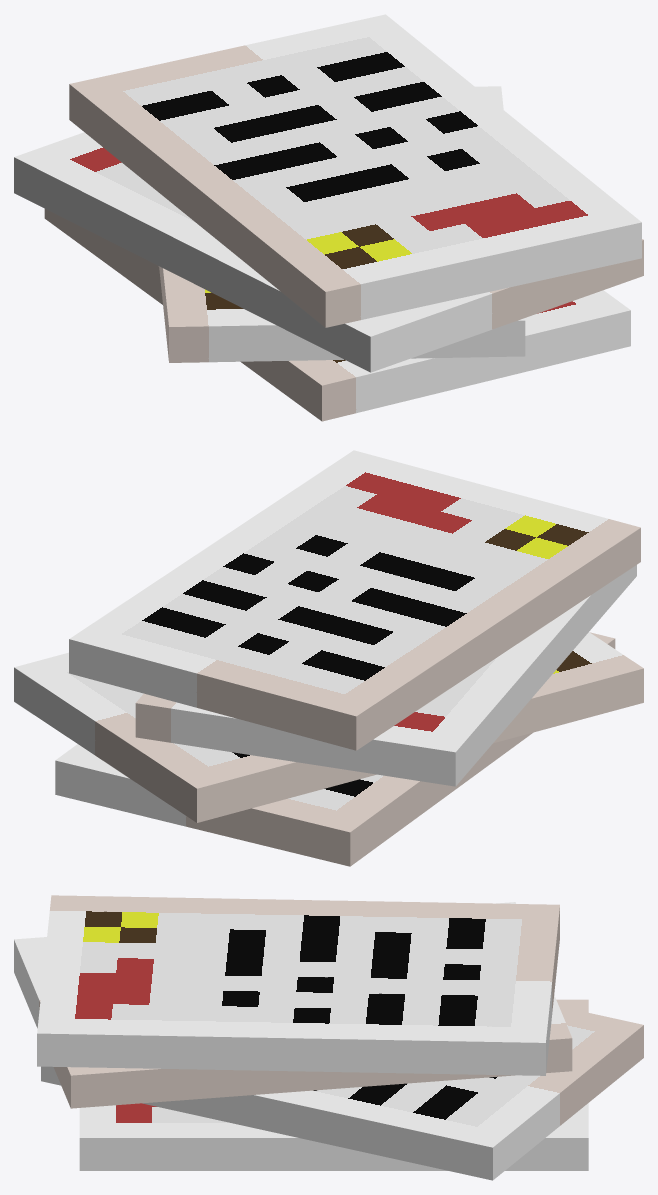
Rendered from newspaper_pile.glb.
3 views of the same model, one above another, from view 1: azimuth 30°, elevation 25°; view 2: azimuth 150°, elevation 25°; view 3: azimuth 270°, elevation 25° (orthographic). The views are drawn at different scales.
Visible parts, largest first — view 1: 9009c7a2-4b4e-7ee2-eb50-d2b9b4bf560f_3, 7e1b5b2b-36ba-e199-bd0b-7e450aeb2d7b_0, 14ee5732-4cb9-4ec8-4c96-71eefc87950d_2, 1358dd2b-743c-4670-5a4c-f29df595660e_1; view 2: 9009c7a2-4b4e-7ee2-eb50-d2b9b4bf560f_3, 1358dd2b-743c-4670-5a4c-f29df595660e_1, 7e1b5b2b-36ba-e199-bd0b-7e450aeb2d7b_0, 14ee5732-4cb9-4ec8-4c96-71eefc87950d_2; view 3: 9009c7a2-4b4e-7ee2-eb50-d2b9b4bf560f_3, 1358dd2b-743c-4670-5a4c-f29df595660e_1, 14ee5732-4cb9-4ec8-4c96-71eefc87950d_2, 7e1b5b2b-36ba-e199-bd0b-7e450aeb2d7b_0.
Part boxes in pixels (x1=…): 9009c7a2-4b4e-7ee2-eb50-d2b9b4bf560f_3: x1=69, y1=14, x2=641, y2=327; 7e1b5b2b-36ba-e199-bd0b-7e450aeb2d7b_0: x1=14, y1=132, x2=643, y2=372; 14ee5732-4cb9-4ec8-4c96-71eefc87950d_2: x1=44, y1=209, x2=630, y2=421; 1358dd2b-743c-4670-5a4c-f29df595660e_1: x1=159, y1=86, x2=525, y2=362; 9009c7a2-4b4e-7ee2-eb50-d2b9b4bf560f_3: x1=69, y1=450, x2=640, y2=750; 1358dd2b-743c-4670-5a4c-f29df595660e_1: x1=14, y1=632, x2=643, y2=822; 7e1b5b2b-36ba-e199-bd0b-7e450aeb2d7b_0: x1=135, y1=565, x2=636, y2=786; 14ee5732-4cb9-4ec8-4c96-71eefc87950d_2: x1=55, y1=632, x2=615, y2=866; 9009c7a2-4b4e-7ee2-eb50-d2b9b4bf560f_3: x1=37, y1=895, x2=559, y2=1075; 1358dd2b-743c-4670-5a4c-f29df595660e_1: x1=41, y1=1006, x2=643, y2=1180; 14ee5732-4cb9-4ec8-4c96-71eefc87950d_2: x1=79, y1=999, x2=588, y2=1170; 7e1b5b2b-36ba-e199-bd0b-7e450aeb2d7b_0: x1=14, y1=902, x2=572, y2=1108.
Bounding box in the file's own units: 0.903 × 0.25 × 1.08.
Materials: 1 (1 with a texture image).
